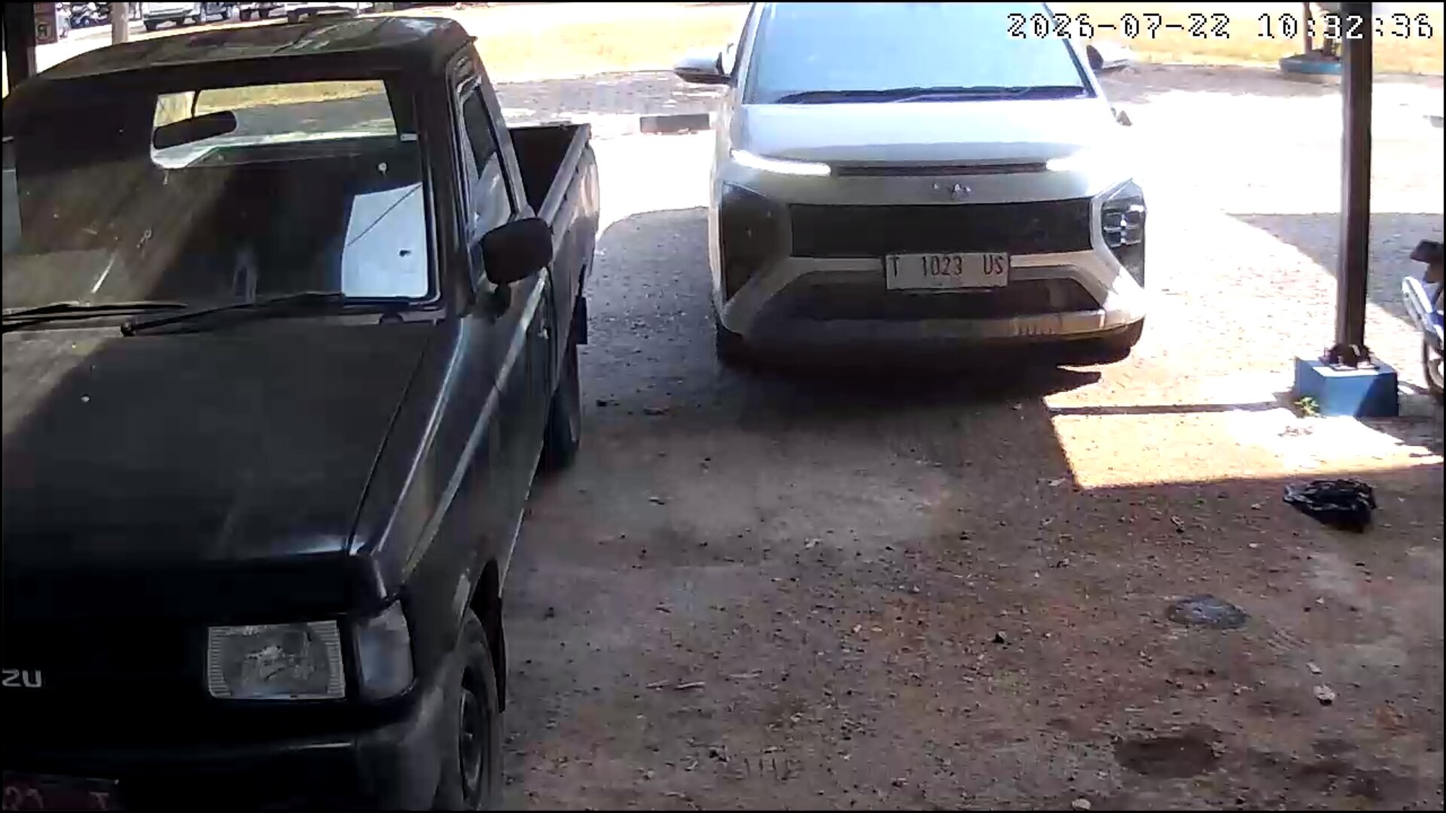plat nomor: (883, 251, 1010, 293)
